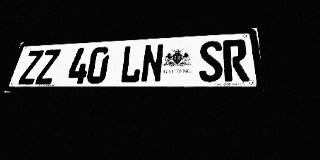0: (85, 46, 110, 84)
4: (66, 47, 92, 84)
L: (119, 45, 143, 83)
N: (140, 44, 164, 83)
R: (222, 39, 250, 82)
S: (199, 41, 223, 82)
Z: (35, 49, 61, 85), (18, 50, 44, 85)
